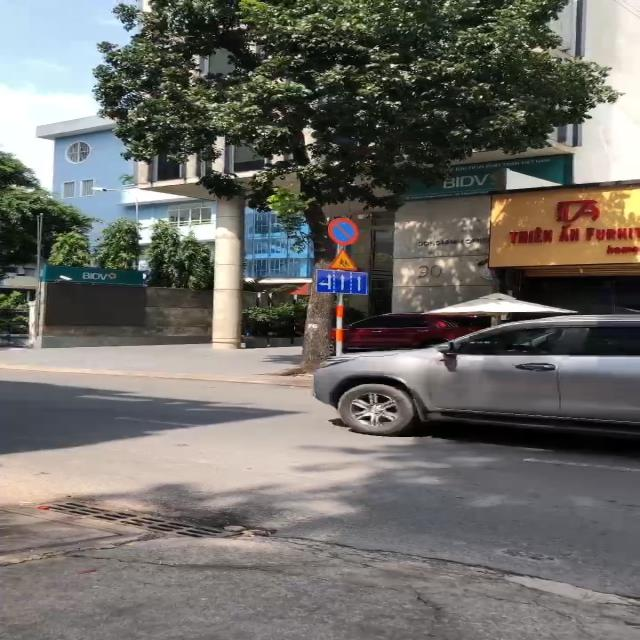Bien bao tre em: (326, 246, 360, 272)
